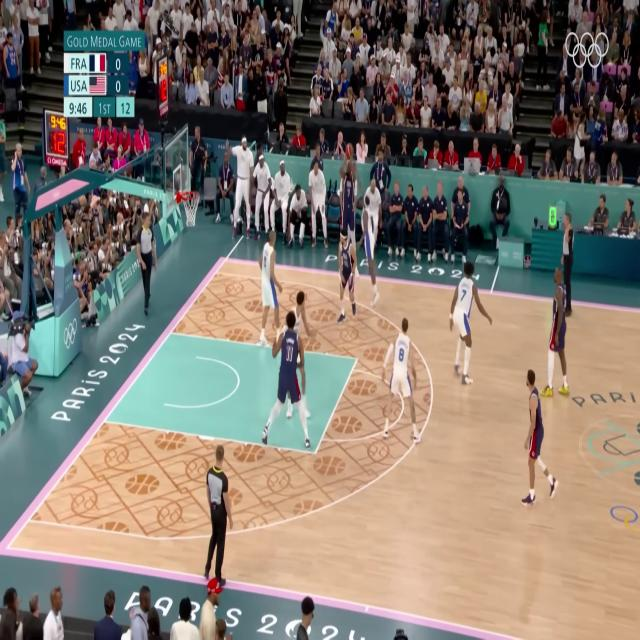ball-handler: (337, 144, 363, 254)
player: (510, 364, 564, 508), (272, 307, 314, 458), (446, 254, 484, 398), (382, 311, 421, 448), (537, 259, 575, 399), (284, 292, 320, 401), (255, 221, 282, 347), (330, 221, 361, 322), (360, 190, 386, 309)
